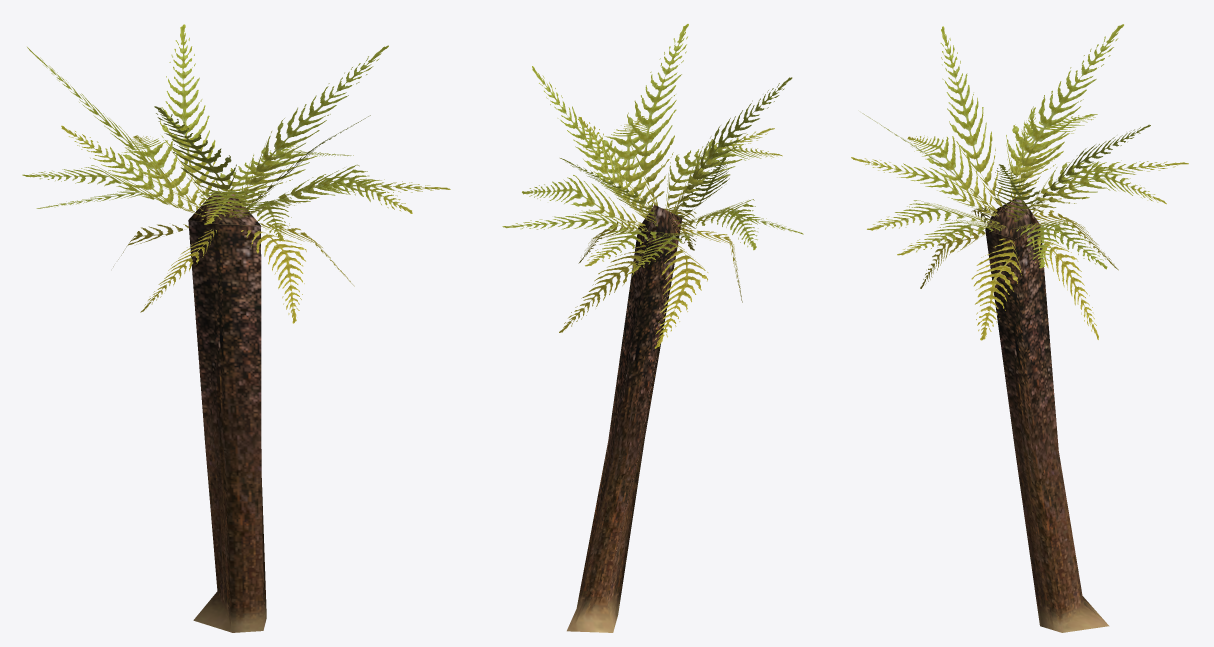
Rendered from M5_Palm01.glb.
The picture shows the model from 3 angles, left to right: view 1: azimuth 30°, elevation 25°; view 2: azimuth 150°, elevation 25°; view 3: azimuth 270°, elevation 25°; orthographic projection. The views are drawn at different scales.
Visible parts, largest first — view 1: M5_PALM01; view 2: M5_PALM01; view 3: M5_PALM01.
Part boxes in pixels (box(x1,y1,x2,y2)): M5_PALM01: box(22, 24, 450, 632); M5_PALM01: box(502, 24, 803, 632); M5_PALM01: box(851, 24, 1188, 632).
Bounding box in the file's own units: 2.32 × 3.82 × 2.31.
Materials: 2 (2 with a texture image).
